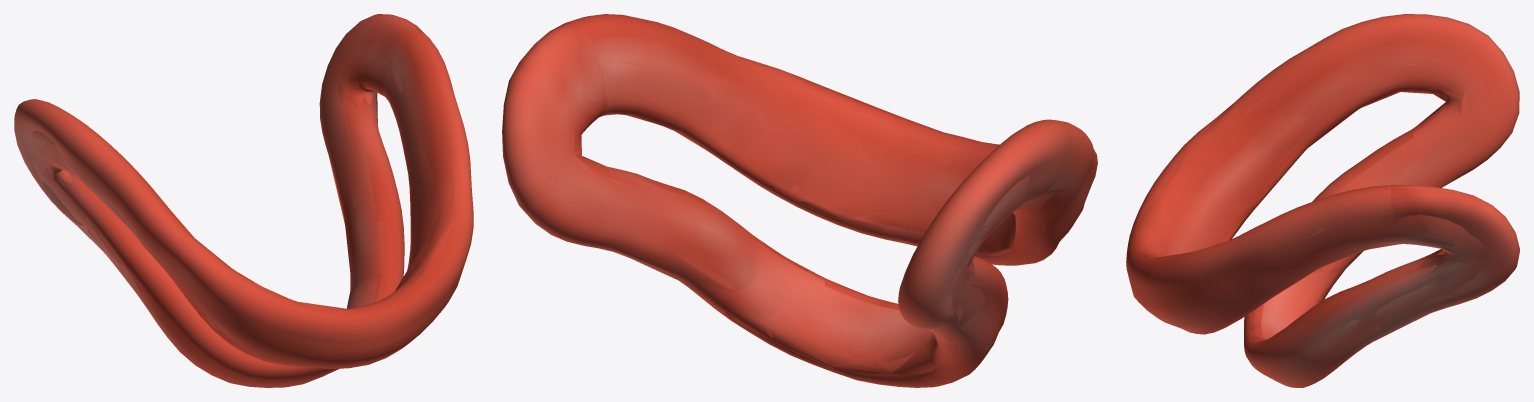
The model's file is Orbicularis Oris.fbx.
The picture shows the model from 3 angles, left to right: view 1: azimuth 30°, elevation 25°; view 2: azimuth 150°, elevation 25°; view 3: azimuth 270°, elevation 25°; orthographic projection. The views are drawn at different scales.
Visible parts, largest first — view 1: Orbicularis Oris, Orbicularis Oris low; view 2: Orbicularis Oris, Orbicularis Oris low; view 3: Orbicularis Oris, Orbicularis Oris low.
Part boxes in pixels (bbox=[...]): Orbicularis Oris: bbox=[14, 14, 473, 387]; Orbicularis Oris low: bbox=[32, 56, 458, 330]; Orbicularis Oris: bbox=[502, 14, 1097, 387]; Orbicularis Oris low: bbox=[571, 51, 1072, 374]; Orbicularis Oris: bbox=[1126, 14, 1519, 387]; Orbicularis Oris low: bbox=[1136, 61, 1486, 349].
Bounding box in the file's own units: 12.27 × 8.46 × 11.13.
1 material, 1 textured.
